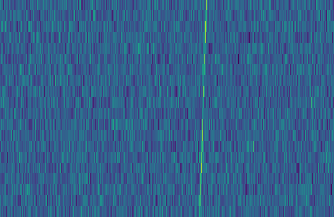signal: (195, 0, 211, 217)
